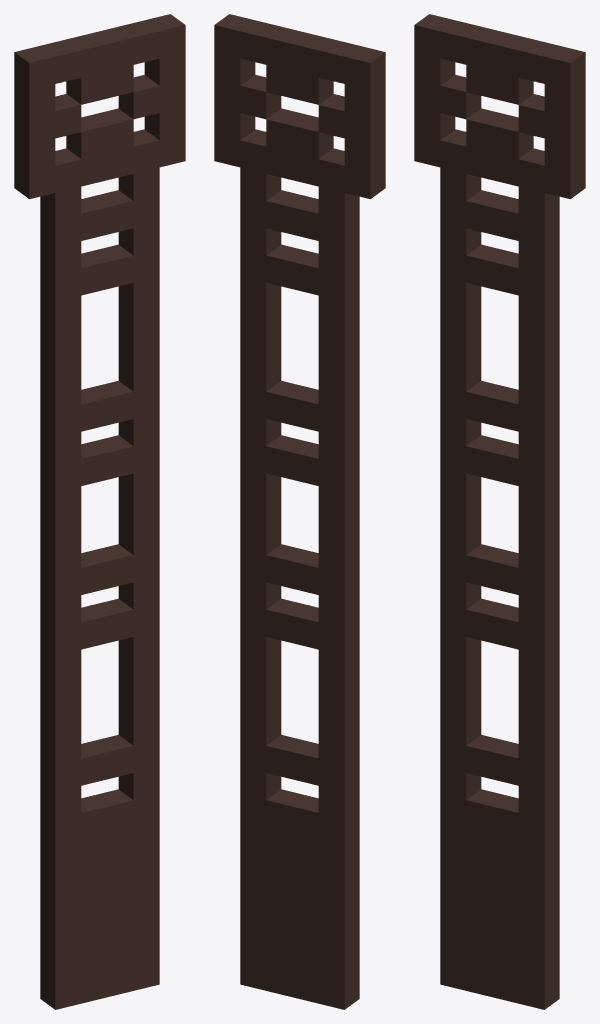
The model's file is TallBuilding02-12.obj.
3 renders of one model, left to right at view 1: azimuth 30°, elevation 25°; view 2: azimuth 150°, elevation 25°; view 3: azimuth 330°, elevation 25°, orthographic.
Size of the model in its own units: 0.6 by 3.5 by 0.1.
Materials: 1 (1 with a texture image).
